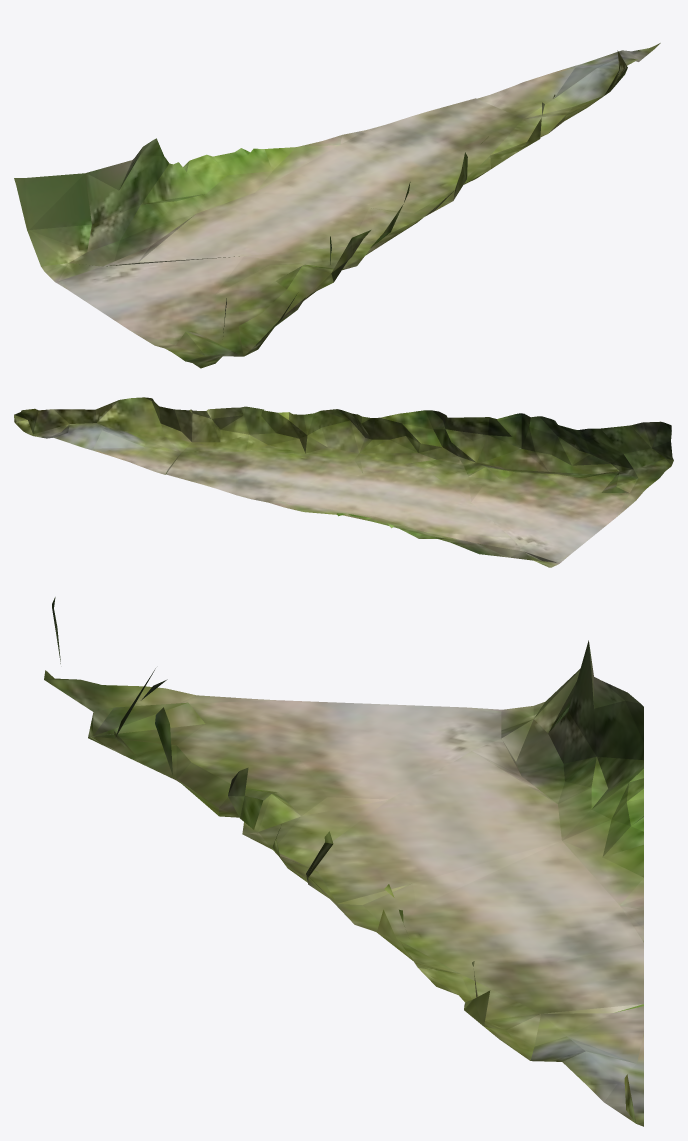
3 views of the same model, one above another, from view 1: azimuth 30°, elevation 25°; view 2: azimuth 150°, elevation 25°; view 3: azimuth 270°, elevation 25° (orthographic). The views are drawn at different scales.
Size of the model in its own units: 25.76 by 2.88 by 13.12.
Materials: 1 (1 with a texture image).
